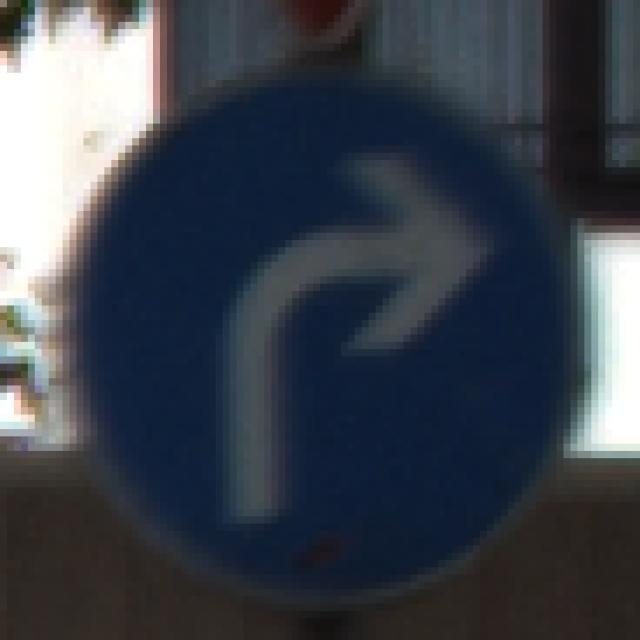compulsary turn right ahead: (45, 49, 591, 608)
